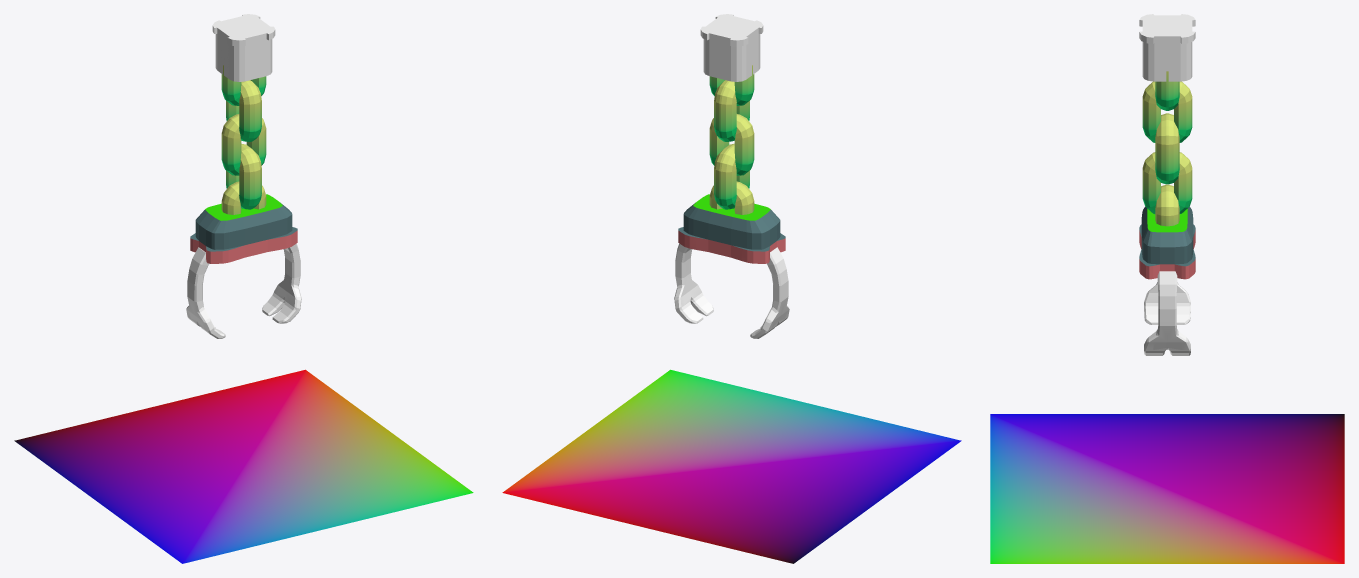
The model's file is Player - Crane.fbx.
3 views of the same model, side by side, from view 1: azimuth 30°, elevation 25°; view 2: azimuth 150°, elevation 25°; view 3: azimuth 270°, elevation 25° (orthographic). The views are drawn at different scales.
Parts seen in each view (by area): view 1: Shape_Indicator, Cube, PlayerCrane, Cube_001, PlayerCraneChain_2, PlayerCraneChain_3, PlayerCraneChain_1, PlayerCraneChain_4, PlayerCraneChain; view 2: Shape_Indicator, Cube, PlayerCrane, Cube_001, PlayerCraneChain_2, PlayerCraneChain_3, PlayerCraneChain_1, PlayerCraneChain_4, PlayerCraneChain; view 3: Shape_Indicator, PlayerCrane, Cube, Cube_001, PlayerCraneChain_1, PlayerCraneChain_3, PlayerCraneChain_2, PlayerCraneChain_4, PlayerCraneChain.
Boxes of the visible parts, <box> form: Shape_Indicator: <box>14,369,473,563</box>; Cube: <box>190,194,297,263</box>; PlayerCrane: <box>212,14,275,81</box>; Cube_001: <box>186,243,301,338</box>; PlayerCraneChain_2: <box>221,114,266,175</box>; PlayerCraneChain_3: <box>226,143,261,209</box>; PlayerCraneChain_1: <box>226,80,261,141</box>; PlayerCraneChain_4: <box>221,181,266,214</box>; PlayerCraneChain: <box>221,65,266,105</box>; Shape_Indicator: <box>502,369,961,563</box>; Cube: <box>678,194,785,263</box>; PlayerCrane: <box>700,14,763,81</box>; Cube_001: <box>674,243,789,338</box>; PlayerCraneChain_2: <box>709,114,754,175</box>; PlayerCraneChain_3: <box>714,143,749,209</box>; PlayerCraneChain_1: <box>714,80,749,141</box>; PlayerCraneChain_4: <box>709,181,754,214</box>; PlayerCraneChain: <box>709,65,754,105</box>; Shape_Indicator: <box>990,414,1344,563</box>; PlayerCrane: <box>1139,14,1195,81</box>; Cube: <box>1139,206,1195,279</box>; Cube_001: <box>1144,271,1190,355</box>; PlayerCraneChain_1: <box>1142,81,1192,142</box>; PlayerCraneChain_3: <box>1142,152,1192,213</box>; PlayerCraneChain_2: <box>1155,113,1179,184</box>; PlayerCraneChain_4: <box>1155,184,1179,226</box>; PlayerCraneChain: <box>1155,71,1179,110</box>.
Bounding box in the file's own units: 200 × 288 × 200.
